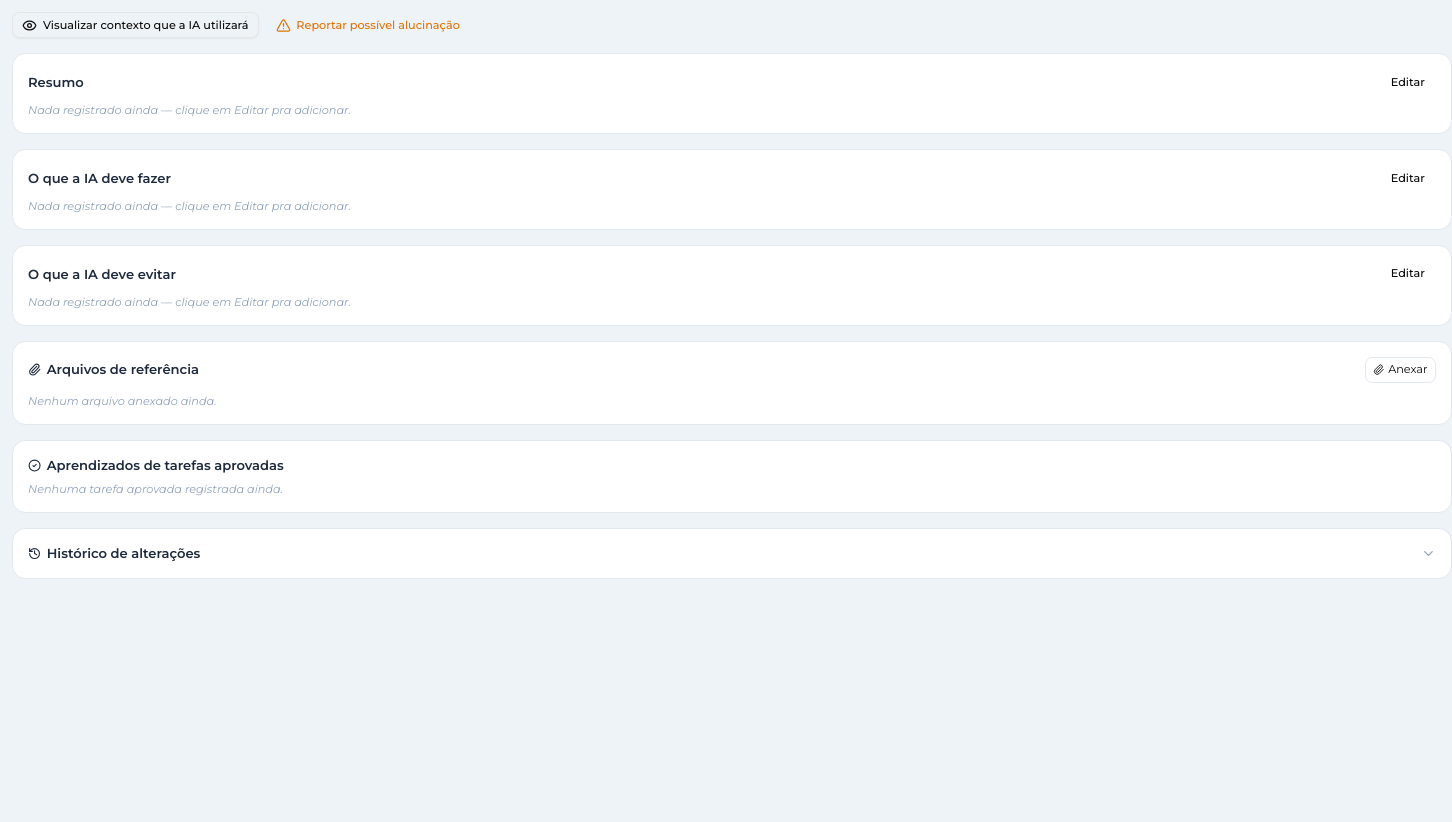
MemoryPanel › edição por seção: salva sem recarregar a tela inteira (um único GET) e sem afetar as outras seções
Expected: the heading "Resumo" is shown, x1=28 y1=73 x2=84 y2=92
Click the button "Editar" in the row of "O que a IA deve fazer".
click(1408, 178)  # box x1=1380 y1=165 x2=1436 y2=191
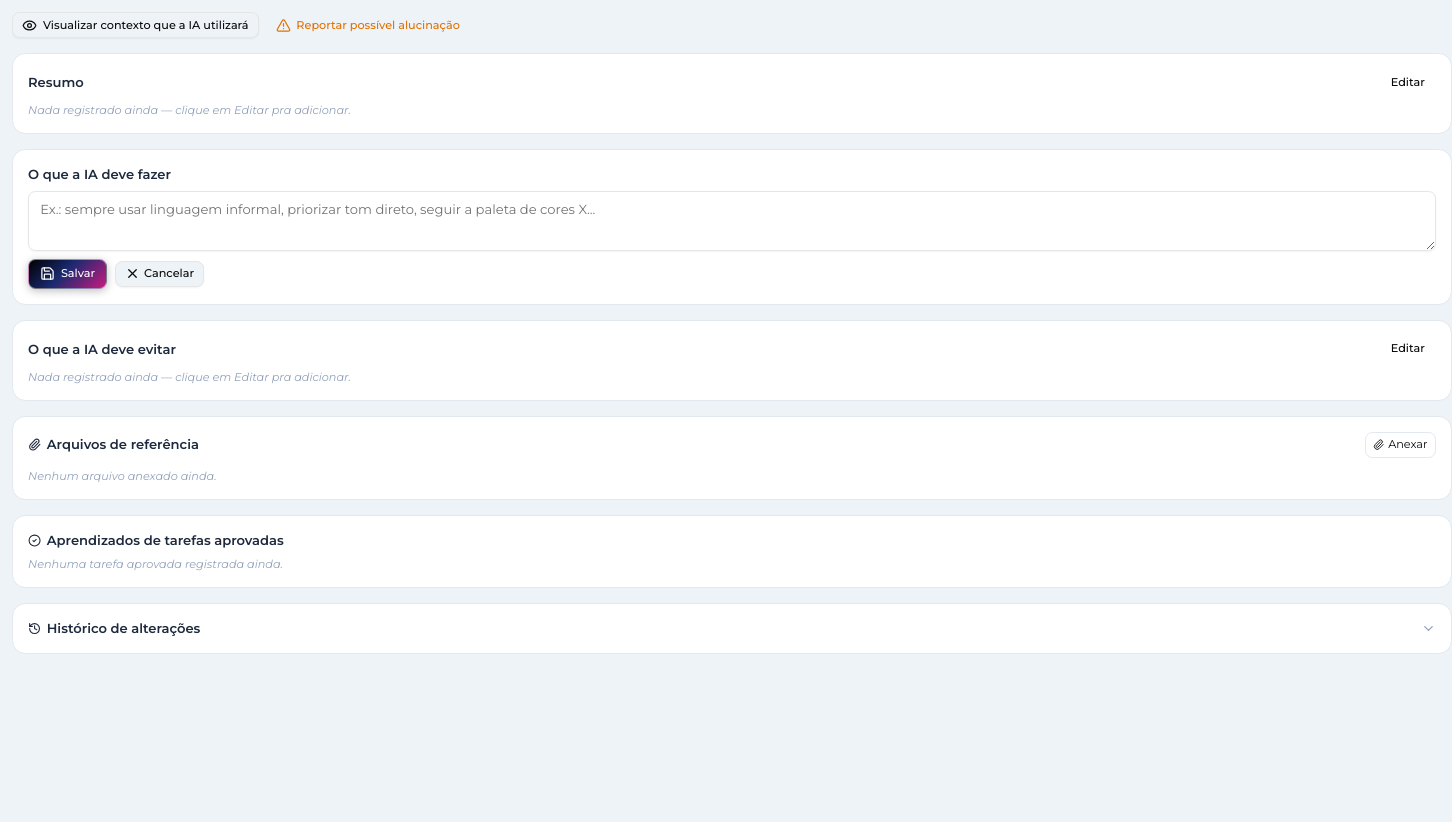
Type "Sempre usar tom formal" into the text box with placeholder "sempre usar linguagem informal".
click(732, 221); type("Sempre usar tom formal")  # box x1=28 y1=191 x2=1436 y2=251
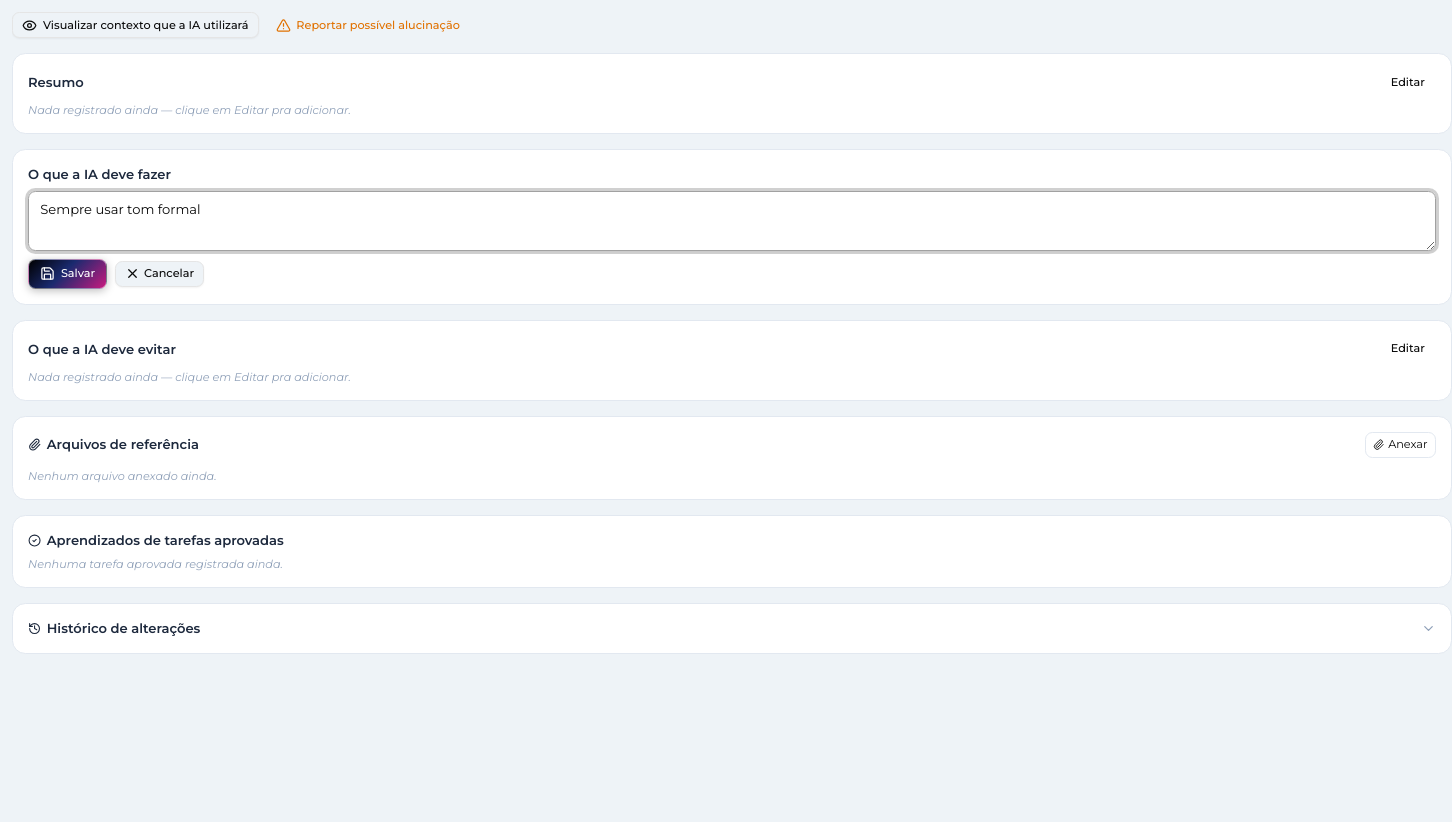
Click the button "Salvar".
click(68, 274)  # box x1=28 y1=259 x2=107 y2=289
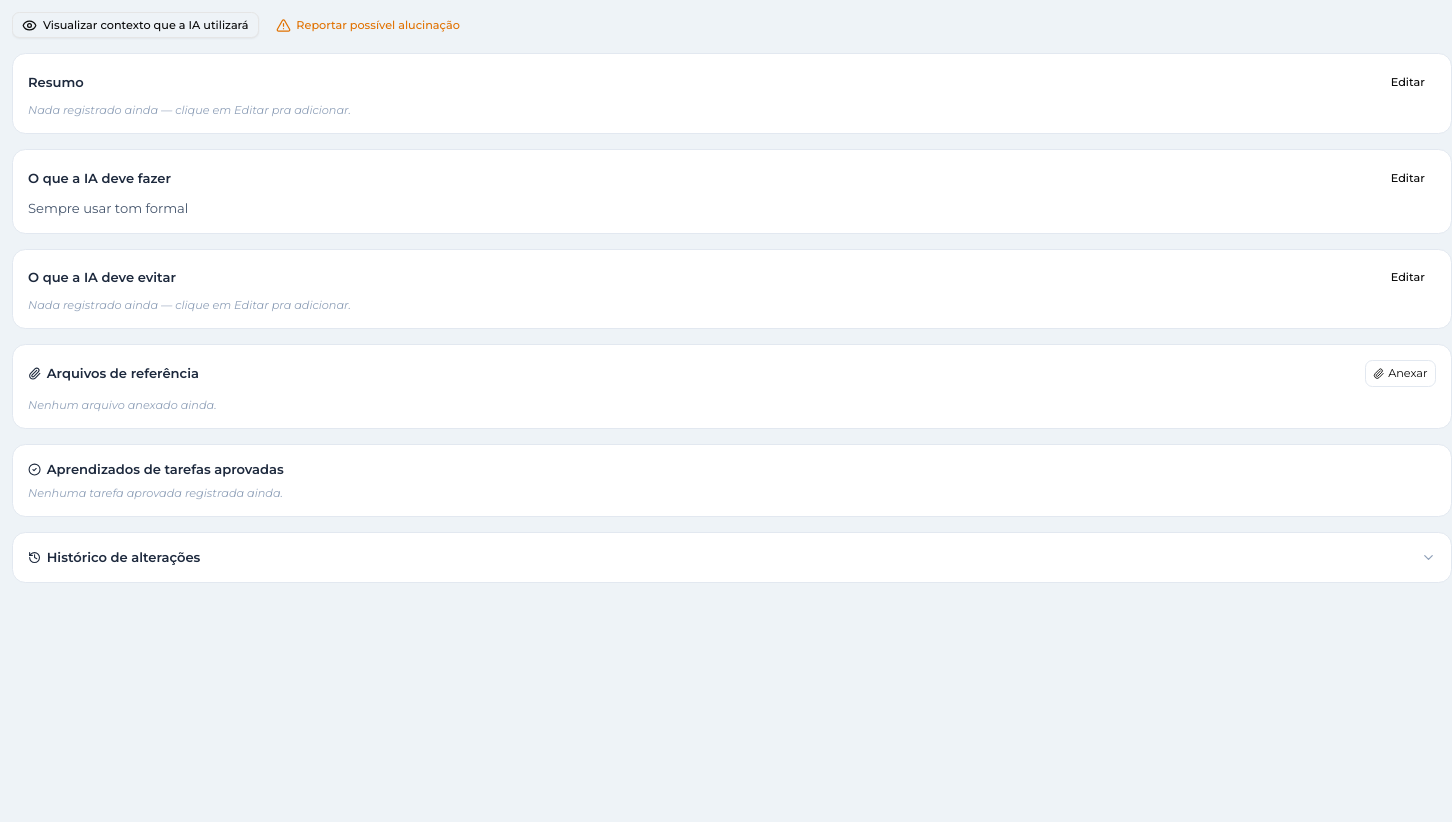
Expected: the text "Nada registrado ainda — clique em Editar pra adicionar." is shown 2 times, x1=28 y1=103 x2=351 y2=117; x1=28 y1=298 x2=351 y2=312
Expected: the text "Sempre usar tom formal" is shown, x1=28 y1=200 x2=188 y2=216
